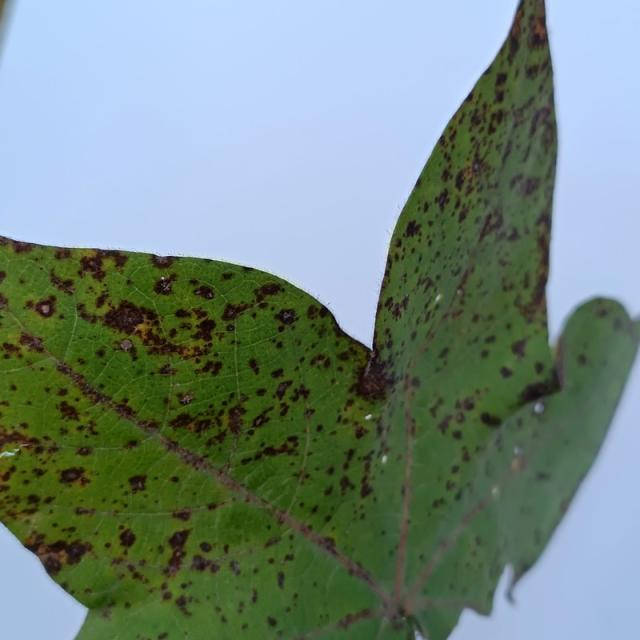Bacterial_Blight: (392, 390, 498, 559), (141, 426, 238, 488), (52, 353, 139, 420), (392, 249, 455, 329), (518, 219, 554, 317), (434, 392, 481, 435), (160, 525, 196, 580), (100, 301, 152, 338), (0, 428, 45, 464), (515, 376, 558, 408), (250, 436, 299, 461), (527, 106, 552, 150), (186, 549, 222, 576), (336, 609, 375, 631), (77, 252, 111, 277), (477, 208, 501, 240), (358, 463, 376, 502), (171, 340, 205, 360), (57, 399, 83, 423), (19, 332, 47, 353), (63, 541, 89, 563), (49, 273, 75, 295), (453, 165, 473, 193), (58, 466, 87, 484), (226, 408, 244, 437), (168, 412, 195, 431), (168, 528, 190, 550), (55, 360, 78, 380), (530, 15, 547, 42), (42, 553, 63, 574), (195, 316, 217, 336), (34, 298, 56, 318), (510, 14, 525, 43), (256, 282, 283, 298), (197, 361, 222, 378), (127, 473, 148, 493), (309, 352, 331, 371), (522, 175, 541, 197), (118, 527, 137, 548), (510, 336, 528, 358), (193, 284, 216, 301), (150, 253, 174, 268), (403, 219, 420, 239), (277, 308, 297, 325), (338, 474, 355, 493), (437, 414, 453, 434), (275, 380, 291, 400), (156, 277, 174, 294), (320, 535, 336, 553), (353, 423, 368, 440), (247, 358, 261, 376), (390, 617, 406, 632), (505, 225, 519, 242), (174, 594, 188, 610), (495, 71, 508, 88), (461, 396, 475, 411), (265, 535, 281, 548), (511, 455, 524, 471), (229, 559, 241, 575), (159, 363, 175, 375), (499, 365, 513, 378), (319, 305, 332, 319), (6, 330, 20, 343), (76, 446, 92, 457), (277, 570, 286, 589), (576, 353, 589, 366), (224, 306, 237, 319), (198, 541, 212, 553), (534, 360, 545, 375), (535, 471, 550, 482), (180, 392, 193, 404), (303, 407, 314, 420), (250, 587, 258, 604), (267, 615, 277, 628), (226, 323, 234, 332), (254, 417, 262, 426), (279, 556, 286, 565), (157, 635, 168, 640)
Cotton: (0, 0, 639, 639)
